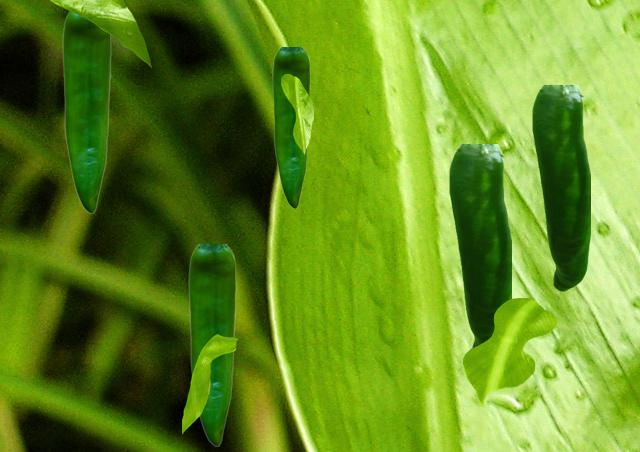green_chili: (449, 144, 510, 347), (532, 85, 589, 290), (62, 11, 110, 212), (188, 244, 235, 445), (272, 47, 309, 207)
